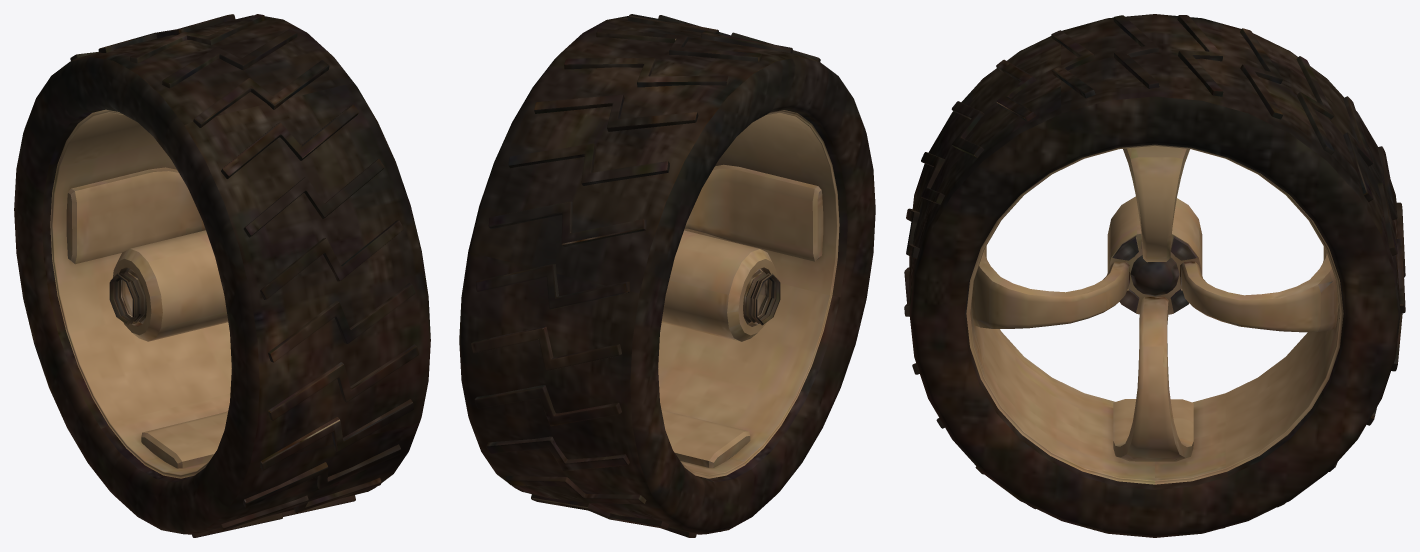
Rendered from rover_wheel.glb.
The picture shows the model from 3 angles, left to right: view 1: azimuth 30°, elevation 25°; view 2: azimuth 150°, elevation 25°; view 3: azimuth 270°, elevation 25°; orthographic projection.
Visible parts, largest first — view 1: rover_wheel; view 2: rover_wheel; view 3: rover_wheel.
Part boxes in pixels (bbox=[...]): rover_wheel: bbox=[14, 14, 430, 537]; rover_wheel: bbox=[459, 14, 875, 537]; rover_wheel: bbox=[904, 14, 1405, 537].
Bounding box in the file's own units: 0.4855 × 1.1 × 1.1.
1 material, 1 textured.
